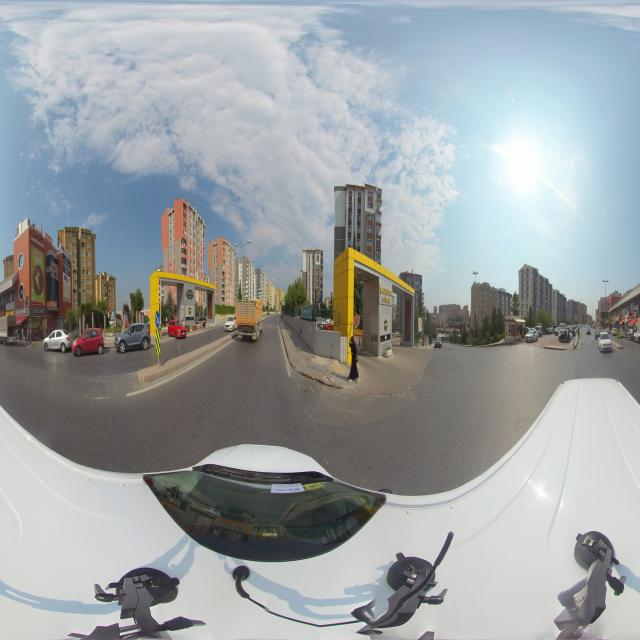SignStore: (30, 307, 46, 315), (16, 307, 28, 315), (6, 310, 15, 316), (0, 307, 4, 316), (617, 316, 620, 320), (624, 317, 628, 320), (622, 316, 624, 320)
